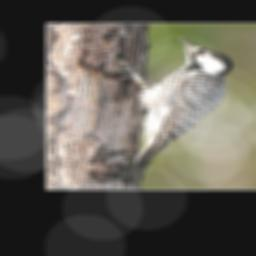Woodpecker: (106, 37, 233, 185)
